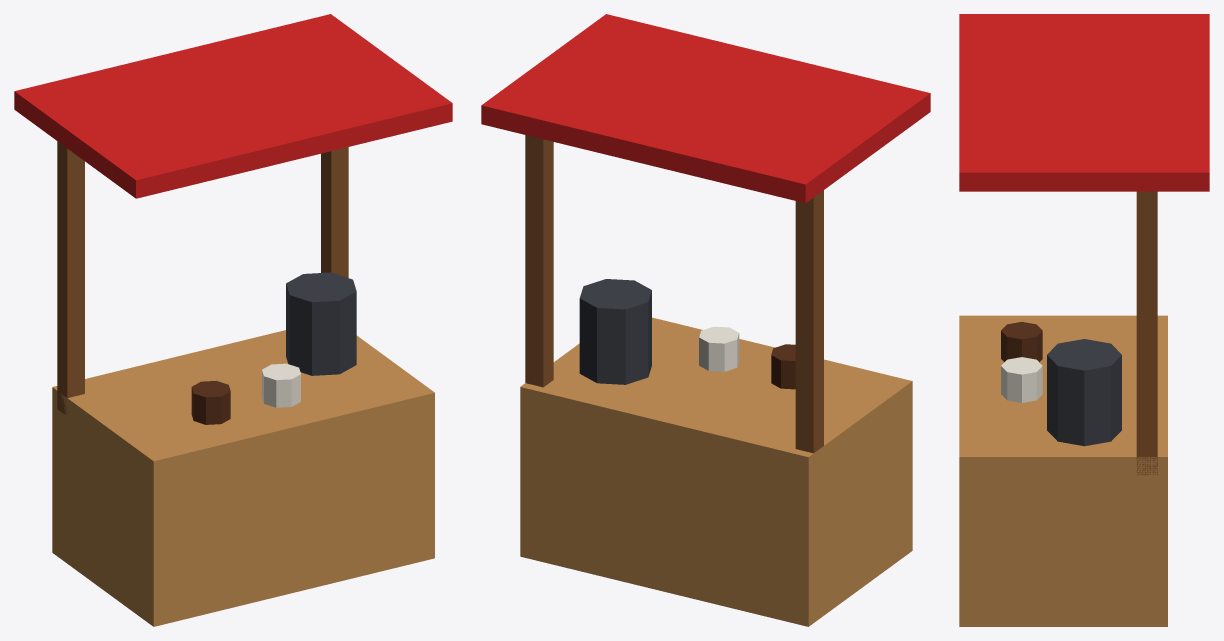
The model's file is hot_cocoa_stand.glb.
3 views of the same model, side by side, from view 1: azimuth 30°, elevation 25°; view 2: azimuth 150°, elevation 25°; view 3: azimuth 270°, elevation 25° (orthographic). The views are drawn at different scales.
Visible parts, largest first — view 1: hot_cocoa_stand; view 2: hot_cocoa_stand; view 3: hot_cocoa_stand.
Part boxes in pixels (<box>): hot_cocoa_stand: <box>14,14,452,626</box>; hot_cocoa_stand: <box>481,14,930,626</box>; hot_cocoa_stand: <box>959,14,1209,626</box>.
Size of the model in its own units: 1.8 by 2.45 by 1.2.
